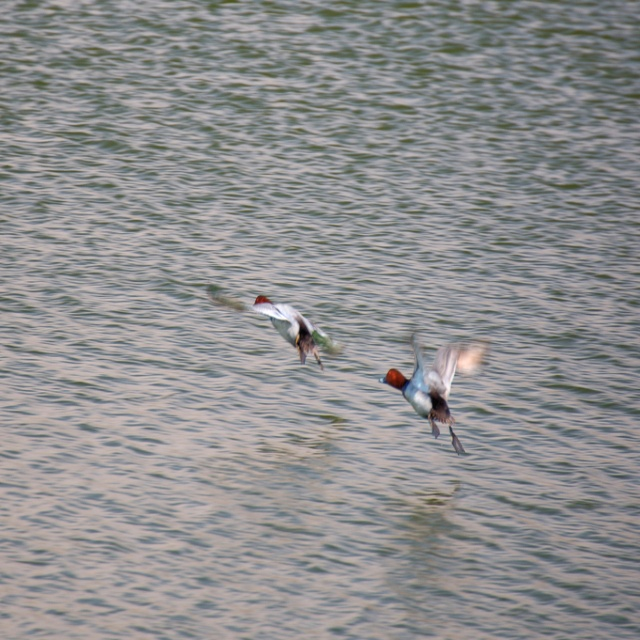Duck: (205, 285, 352, 382), (376, 334, 483, 444)
